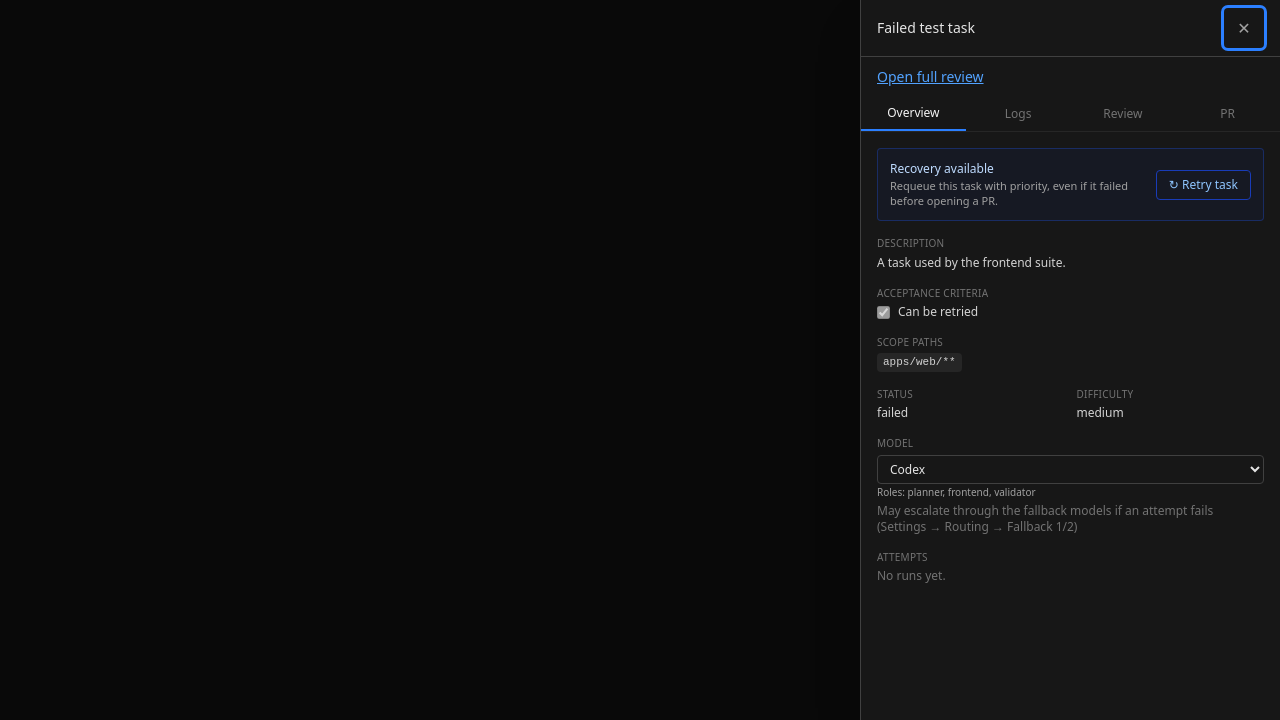
Test case: VW04 task inspector history states › labels the close control as Back for phones under the same accessible name
The image size is (1280, 720).
Click the button "Logs": (1018, 114) [966,97,1071,131]
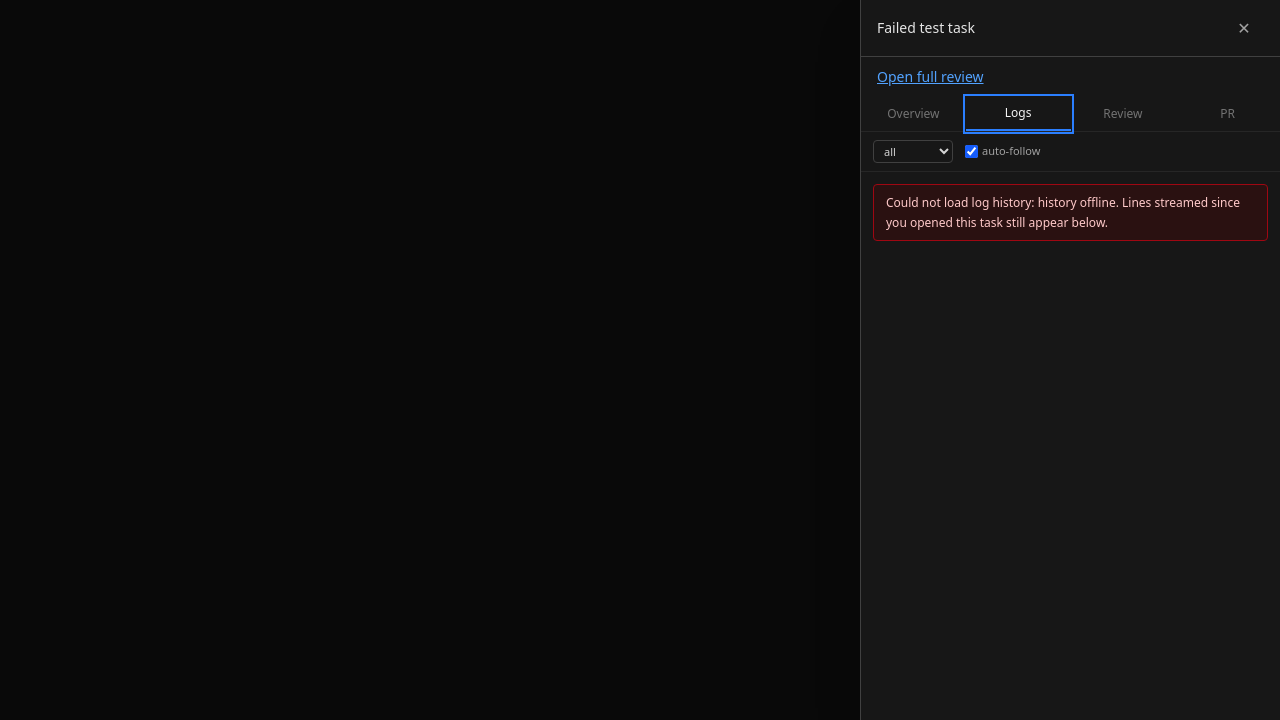
Check: the message shows "Could not load log history: history offline", box [873,184,1268,241]
Click the button "PR": (1228, 114) [1175,97,1279,131]
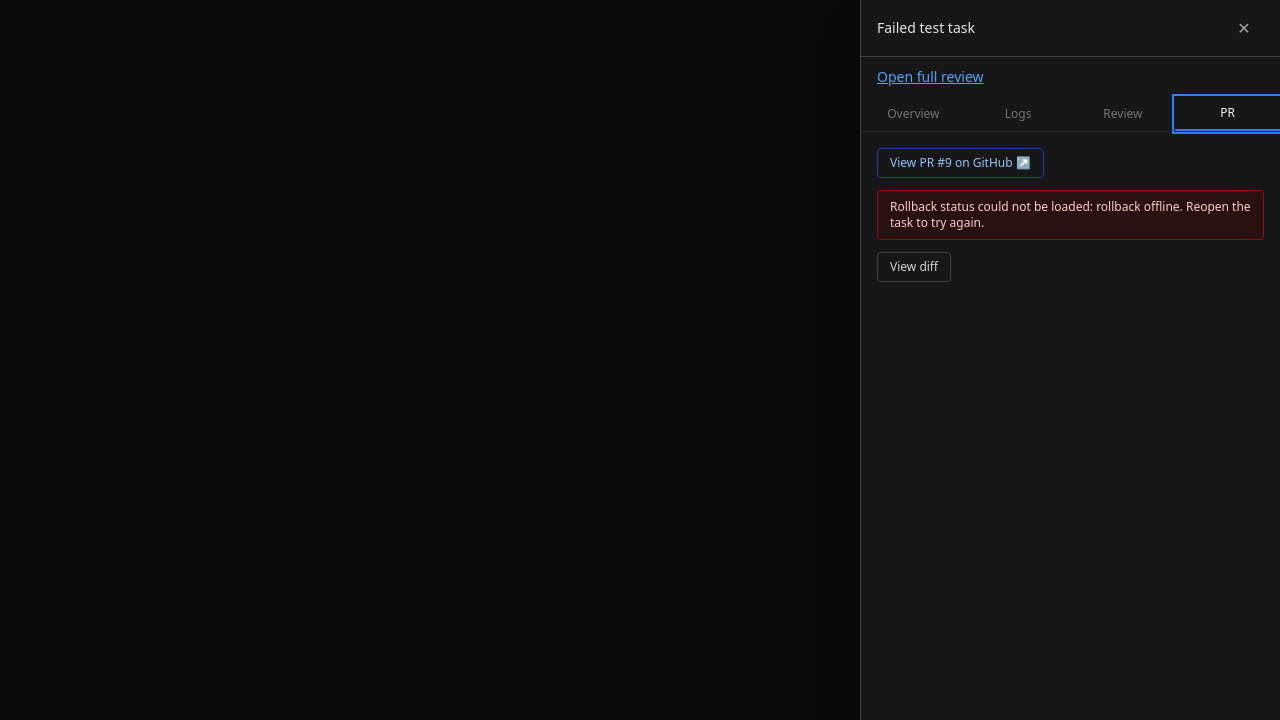
Check: the message shows "Rollback status could not be loaded: rollback offline", box [877,190,1264,240]
